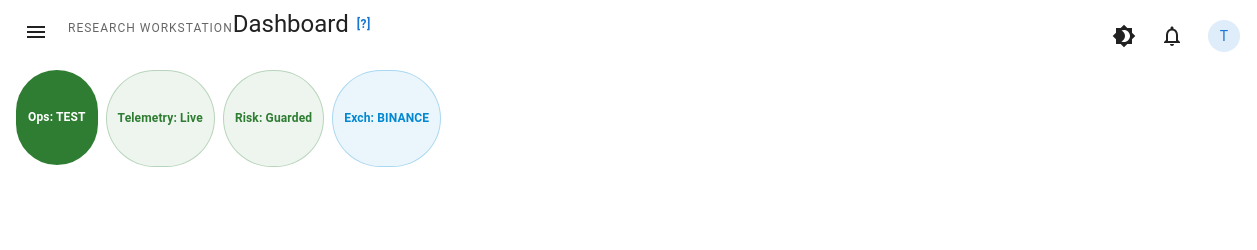
Test: Header › opens notifications menu when notifications button is clicked
This screenshot has width=1257, height=250.
Click the button named "Open notifications" at [1172, 36], box x1=1152 y1=16 x2=1192 y2=56
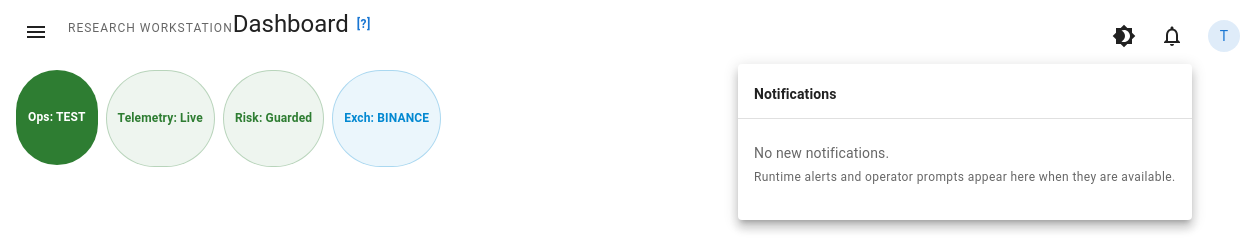
Check: the heading "Notifications" is shown, box x1=754 y1=86 x2=836 y2=102
Check: the text "No new notifications." is shown, box x1=754 y1=145 x2=889 y2=161
